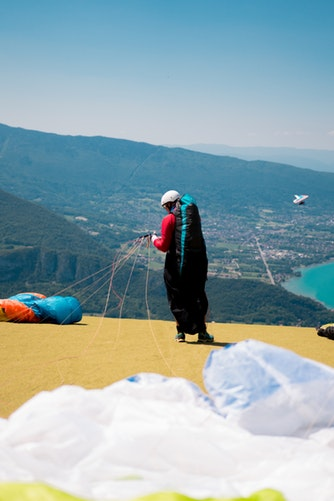helmet: (157, 191, 183, 207)
